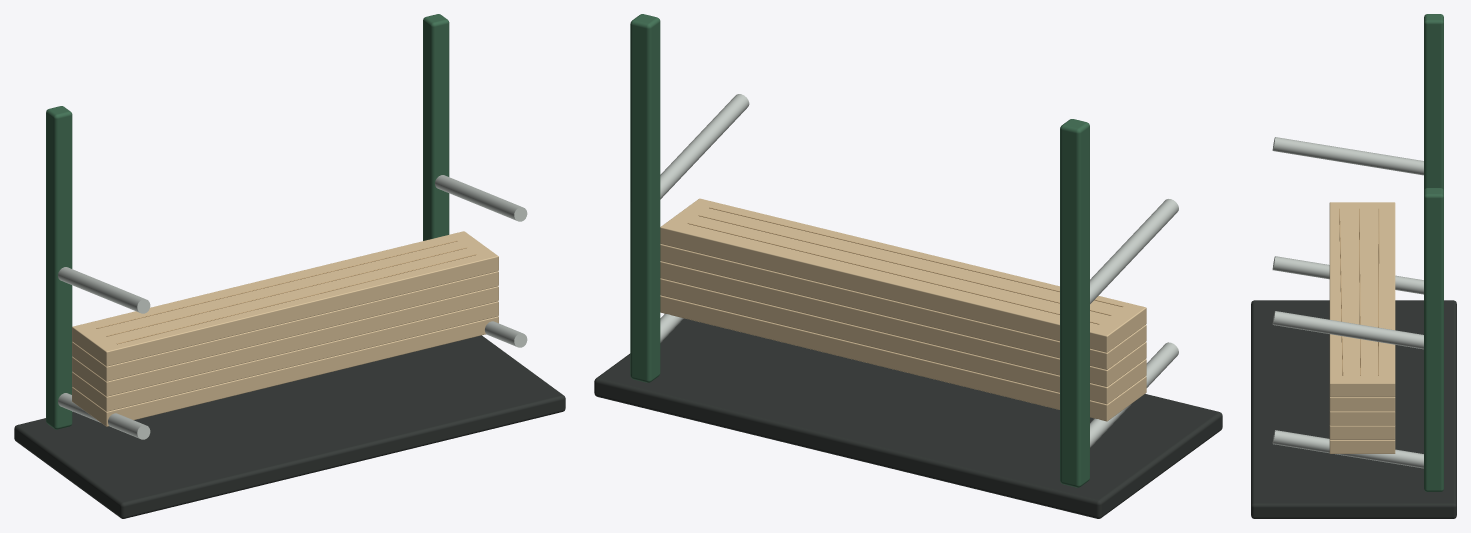
File: sawmill-and-timber-yard-slabwood-rack-2dd1b652__31186.glb
The picture shows the model from 3 angles, left to right: view 1: azimuth 30°, elevation 25°; view 2: azimuth 150°, elevation 25°; view 3: azimuth 270°, elevation 25°; orthographic projection. The views are drawn at different scales.
Visible parts, largest first — view 1: slabwood-rack; view 2: slabwood-rack; view 3: slabwood-rack.
Part boxes in pixels (x1,y1,x2,y2): slabwood-rack: [14, 14, 565, 518]; slabwood-rack: [594, 14, 1222, 518]; slabwood-rack: [1251, 14, 1456, 518].
Bounding box in the file's own units: 1.7 × 1.21 × 0.72.
